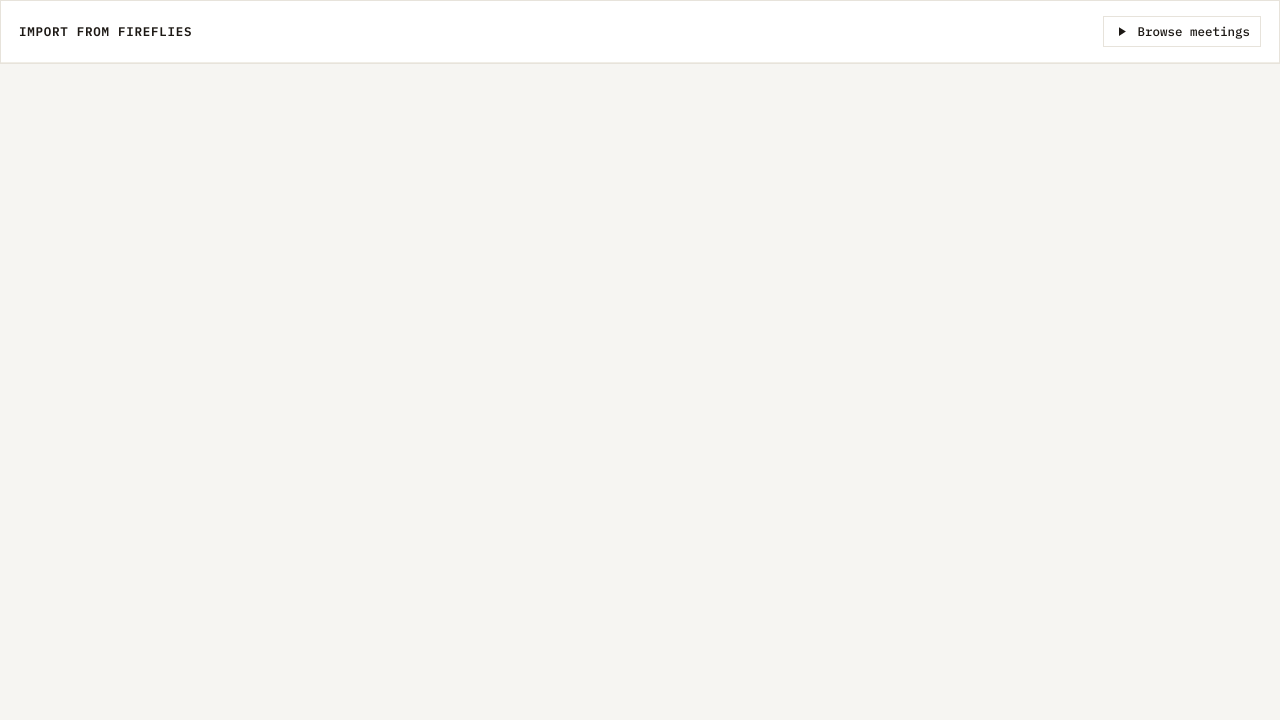
Test: the five states › states the page size and asks Fireflies for the next 50
The width and height of the screenshot is (1280, 720).
Click the button "Browse meetings" at {"x": 1182, "y": 31}, box x1=1104 y1=16 x2=1261 y2=47
(page scrolled)
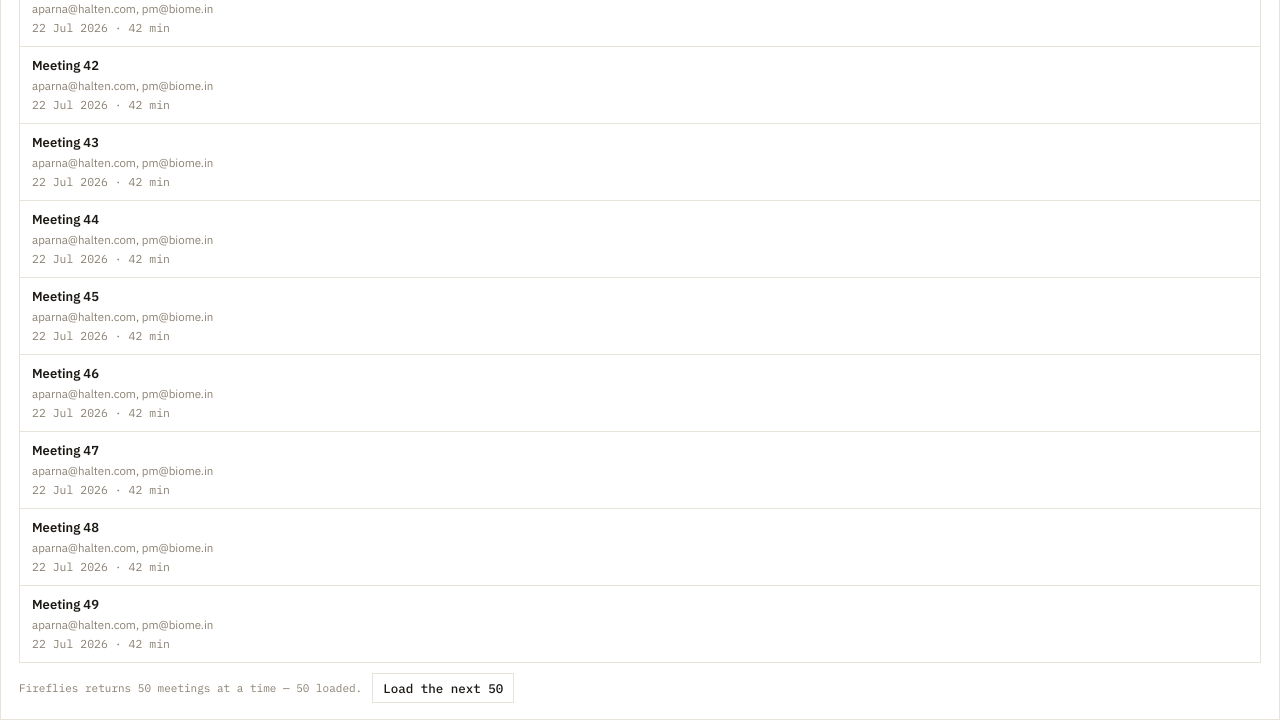
Check: the text "Fireflies returns 50 meetings at a time — 50 loaded." is shown, box x1=19 y1=680 x2=362 y2=696
Click the button "Load the next 50" at {"x": 443, "y": 688}, box x1=372 y1=672 x2=514 y2=703
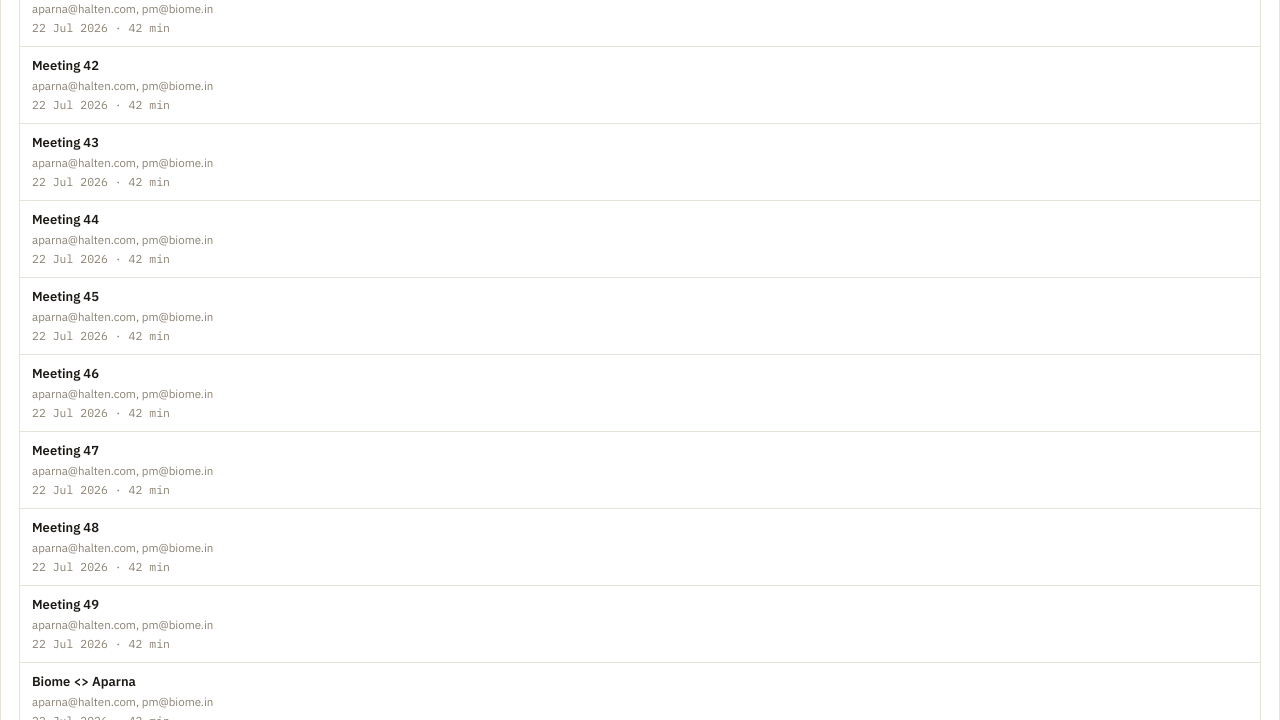
Check: the button "Load the next 50" is gone
